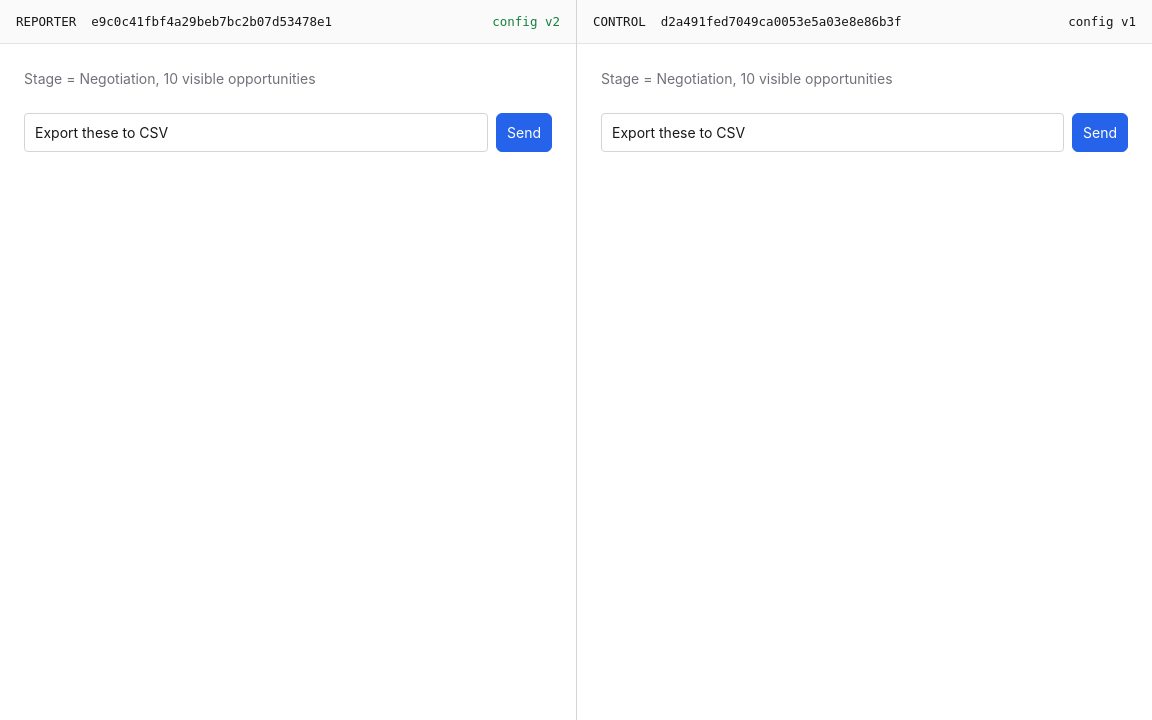
it: DemoHarness › keeps the control user unchanged after the reporter resolves v2
The width and height of the screenshot is (1152, 720).
Expected: the text "config v2" is shown, [492,13,560,30]
Expected: the text "config v1" is shown, [1068,13,1136,30]
Step 1. Click the button "Send" below "e9c0c41fbf4a29beb7bc2b07d53478e1" → coordinates (524, 132), box [496,113,552,152]
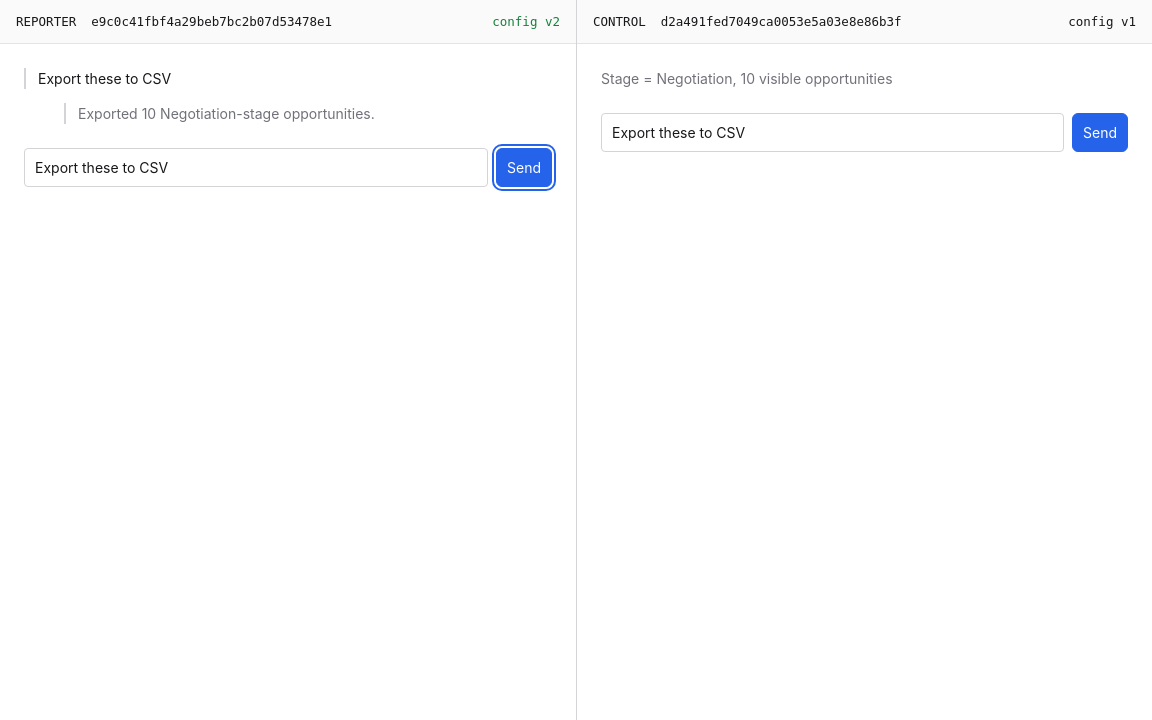
Step 2. Click the button "Send" below "d2a491fed7049ca0053e5a03e8e86b3f" → coordinates (1100, 132), box [1072,113,1128,152]
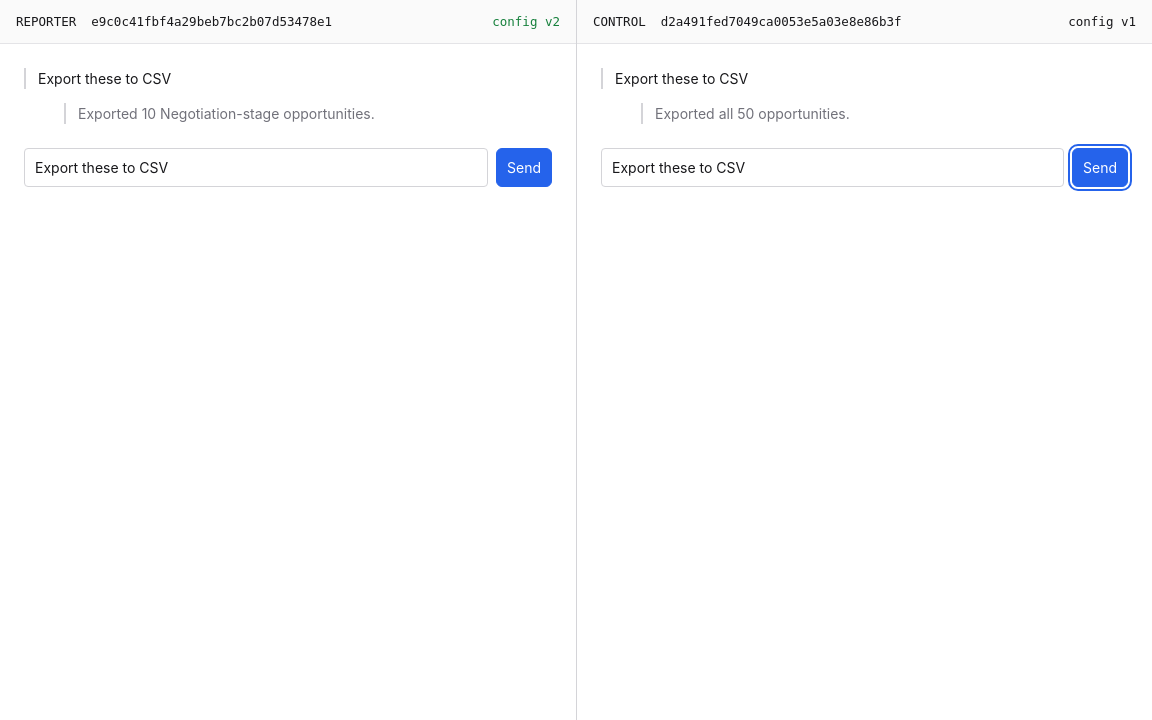
Now the text "Exported 10 Negotiation-stage opportunities." is shown, box [64,103,465,124]
Now the text "Exported all 50 opportunities." is shown, box [641,103,1042,124]
